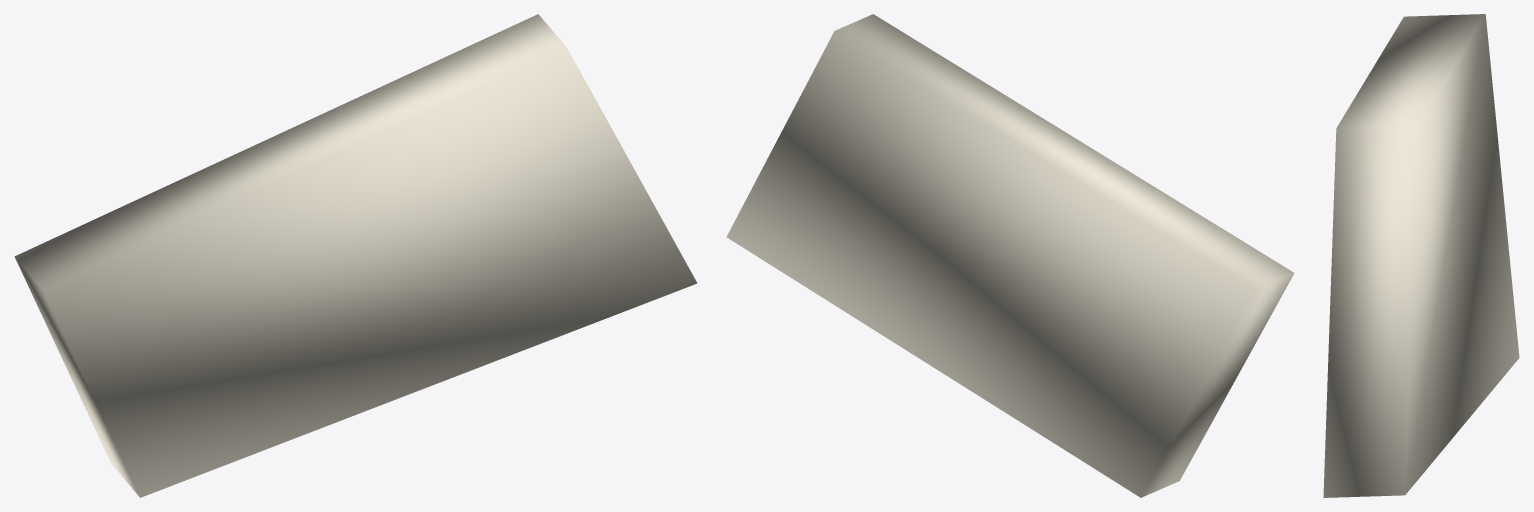
3 views of the same model, side by side, from view 1: azimuth 30°, elevation 25°; view 2: azimuth 150°, elevation 25°; view 3: azimuth 270°, elevation 25° (orthographic). The views are drawn at different scales.
Visible parts, largest first — view 1: ZA_699e1c32f11a3daa; view 2: ZA_699e1c32f11a3daa; view 3: ZA_699e1c32f11a3daa.
Part boxes in pixels (x1,y1,x2,y2): ZA_699e1c32f11a3daa: (14, 14, 697, 497); ZA_699e1c32f11a3daa: (726, 14, 1294, 497); ZA_699e1c32f11a3daa: (1323, 14, 1519, 497).
Size of the model in its own units: 0.00501 by 0.00302 by 0.00119.
